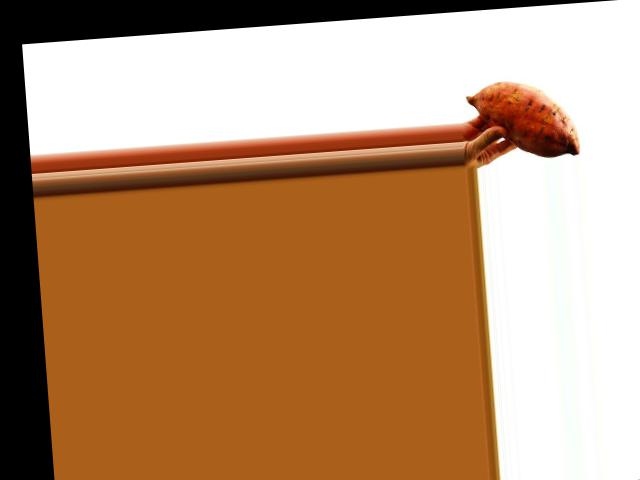sweet_potato: (468, 69, 583, 166)
